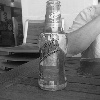beer: (35, 1, 67, 96)
